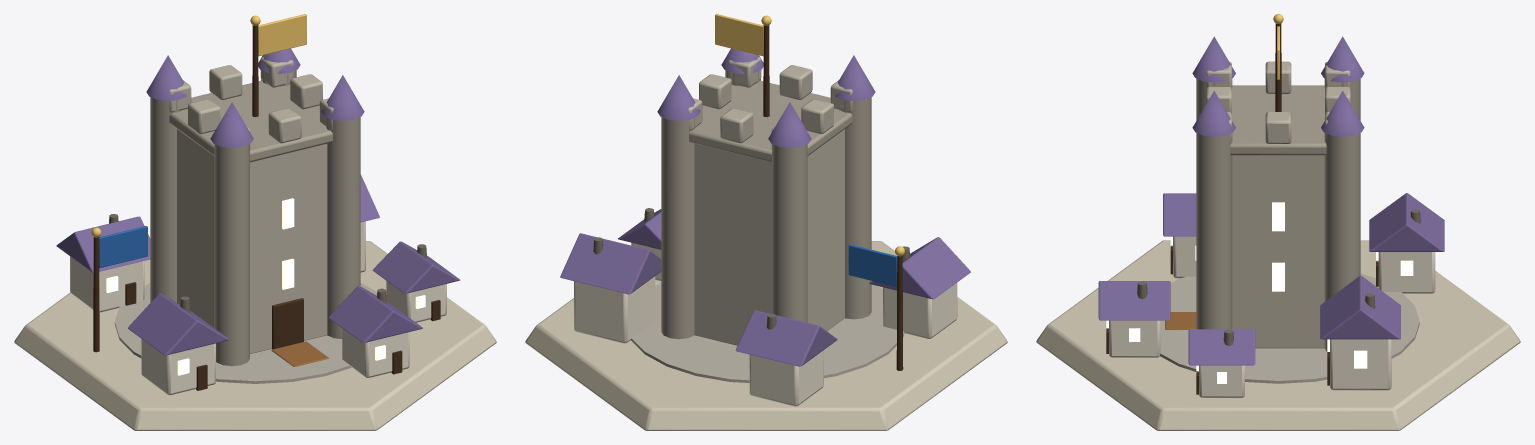
File: district-jump.glb
3 renders of one model, left to right at view 1: azimuth 30°, elevation 25°; view 2: azimuth 150°, elevation 25°; view 3: azimuth 270°, elevation 25°, orthographic.
Visible parts, largest first — view 1: district-jump; view 2: district-jump; view 3: district-jump.
Part boxes in pixels (x1,y1,x2,y2): district-jump: (14, 14, 496, 430); district-jump: (525, 14, 1007, 430); district-jump: (1036, 14, 1520, 430).
Size of the model in its own units: 1.64 by 1.41 by 1.89.
